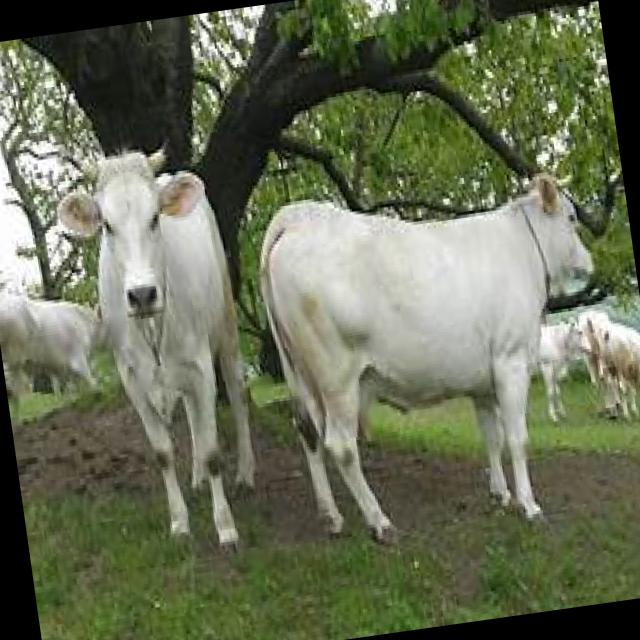cow: (248, 153, 640, 559), (49, 129, 272, 571)
sheep: (0, 278, 113, 408), (534, 314, 603, 426), (579, 304, 640, 425)
